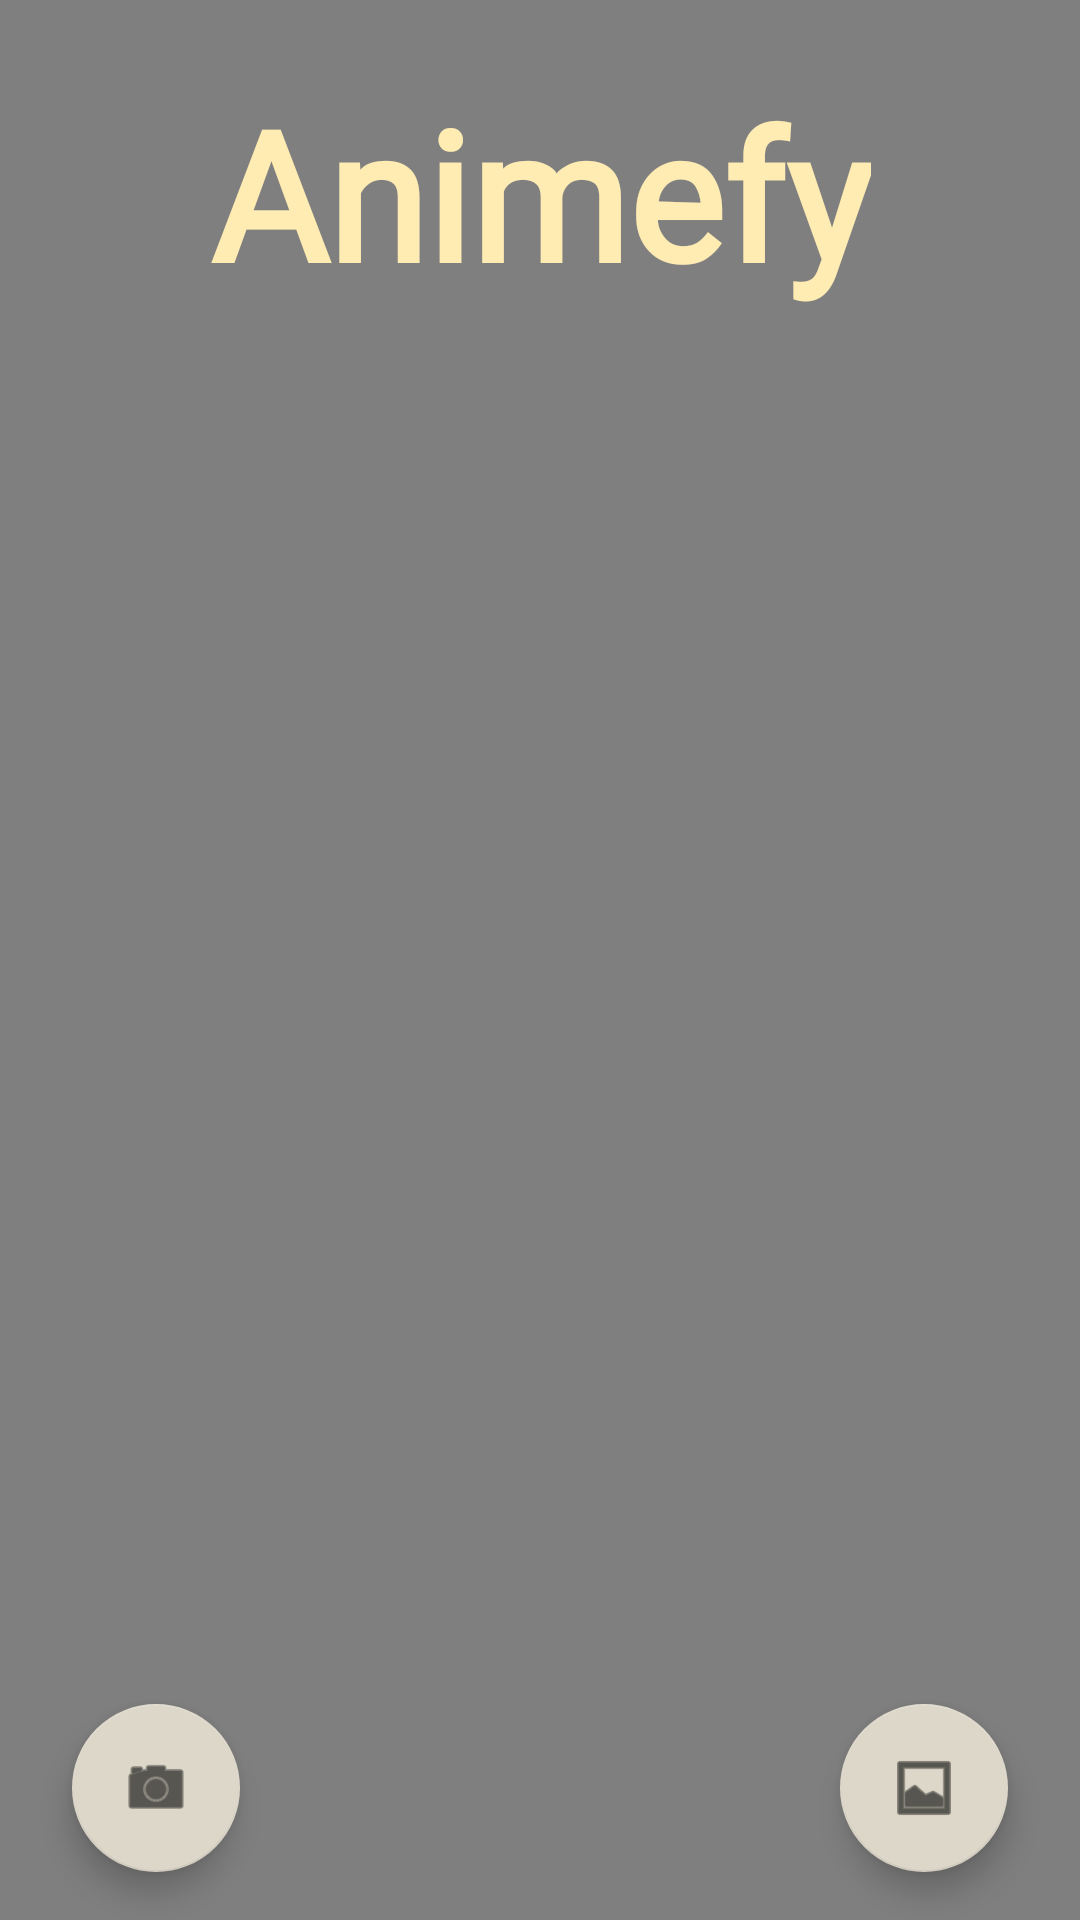

Screen size 1080*1920. Icon name, then its center in pixels as point (x, y):
Allows users to pick video from their gallery: point (924, 1788)
Allows users to record video: point (156, 1788)
